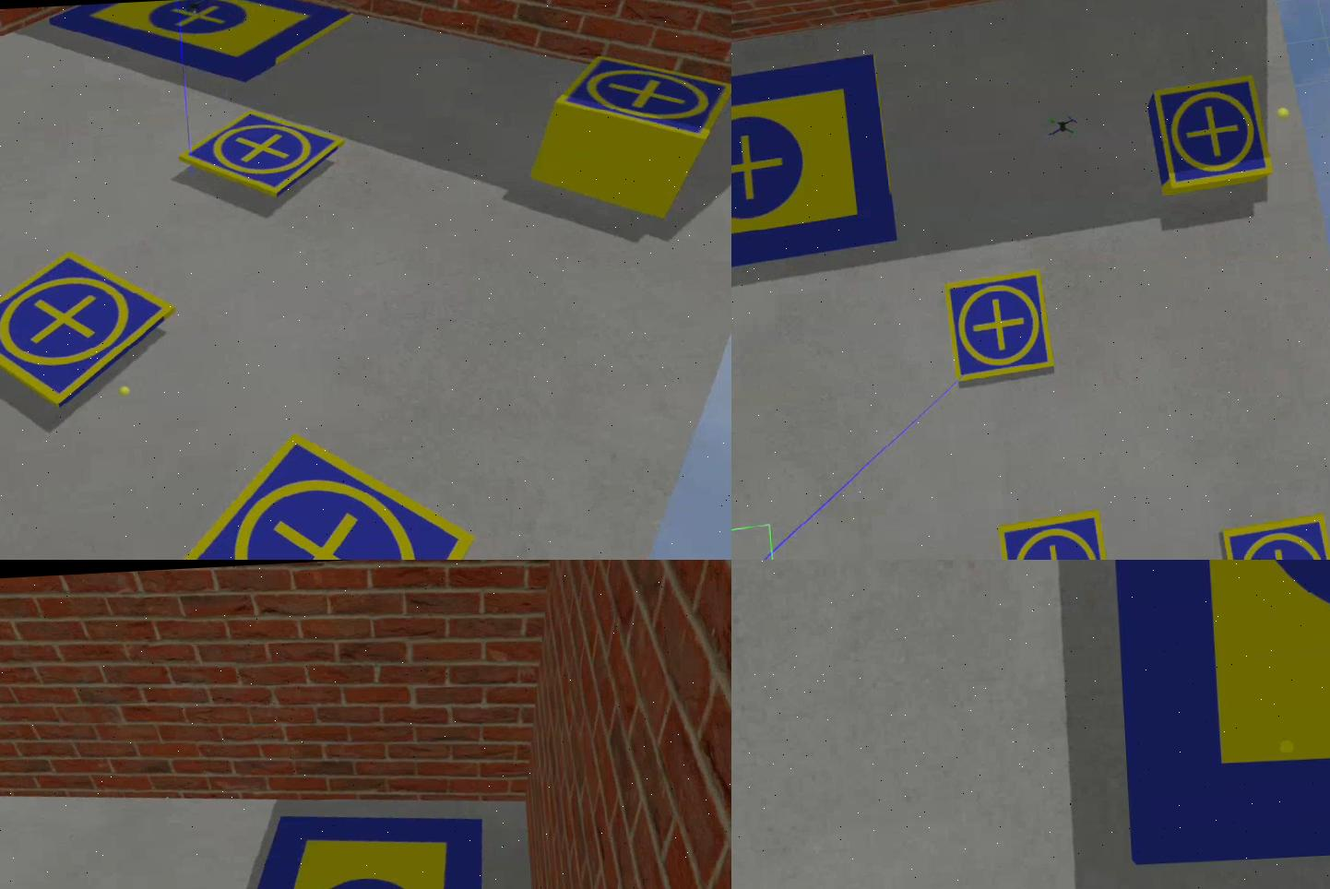large_base: (1104, 561, 1330, 862), (732, 55, 904, 290), (48, 1, 362, 93), (184, 804, 496, 889)
small_base: (163, 424, 484, 561), (1, 246, 183, 415), (550, 47, 732, 153), (178, 103, 350, 207), (1150, 69, 1275, 194), (944, 269, 1058, 387), (998, 513, 1113, 561), (1219, 513, 1330, 561)
